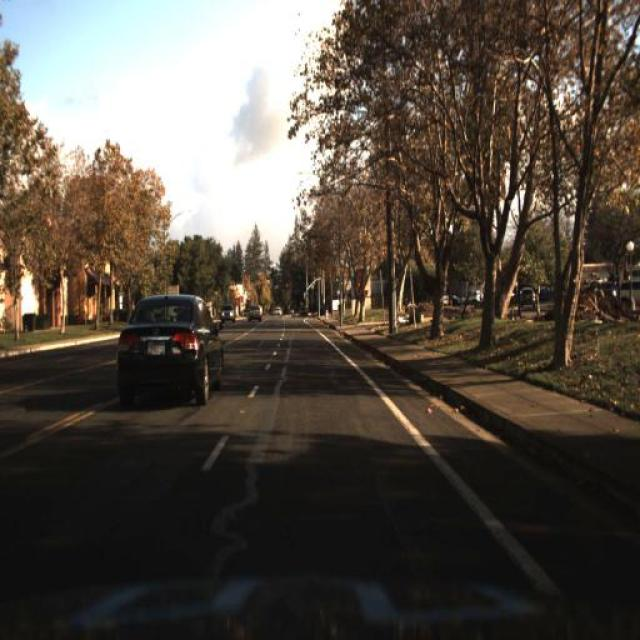car: (105, 293, 224, 419), (248, 302, 262, 323), (221, 304, 235, 324), (300, 306, 308, 316), (275, 307, 283, 315)
trafficLight: (338, 299, 342, 322)
